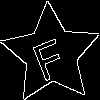F: (26, 29, 70, 83)
